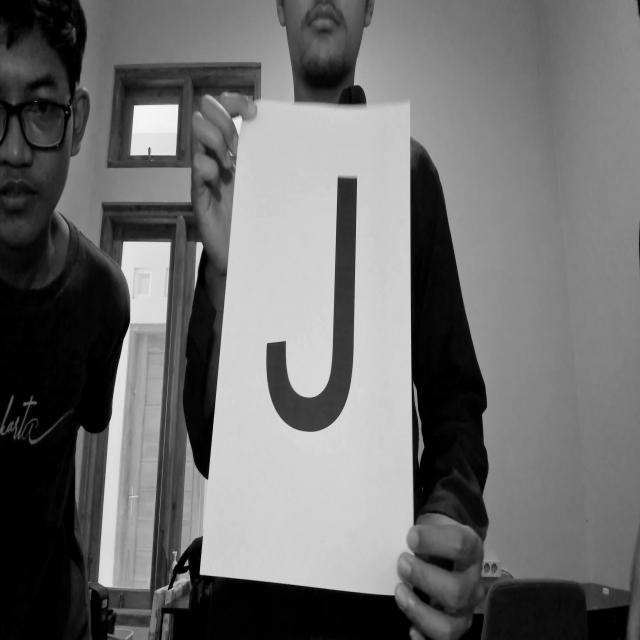j: (250, 157, 380, 449)
